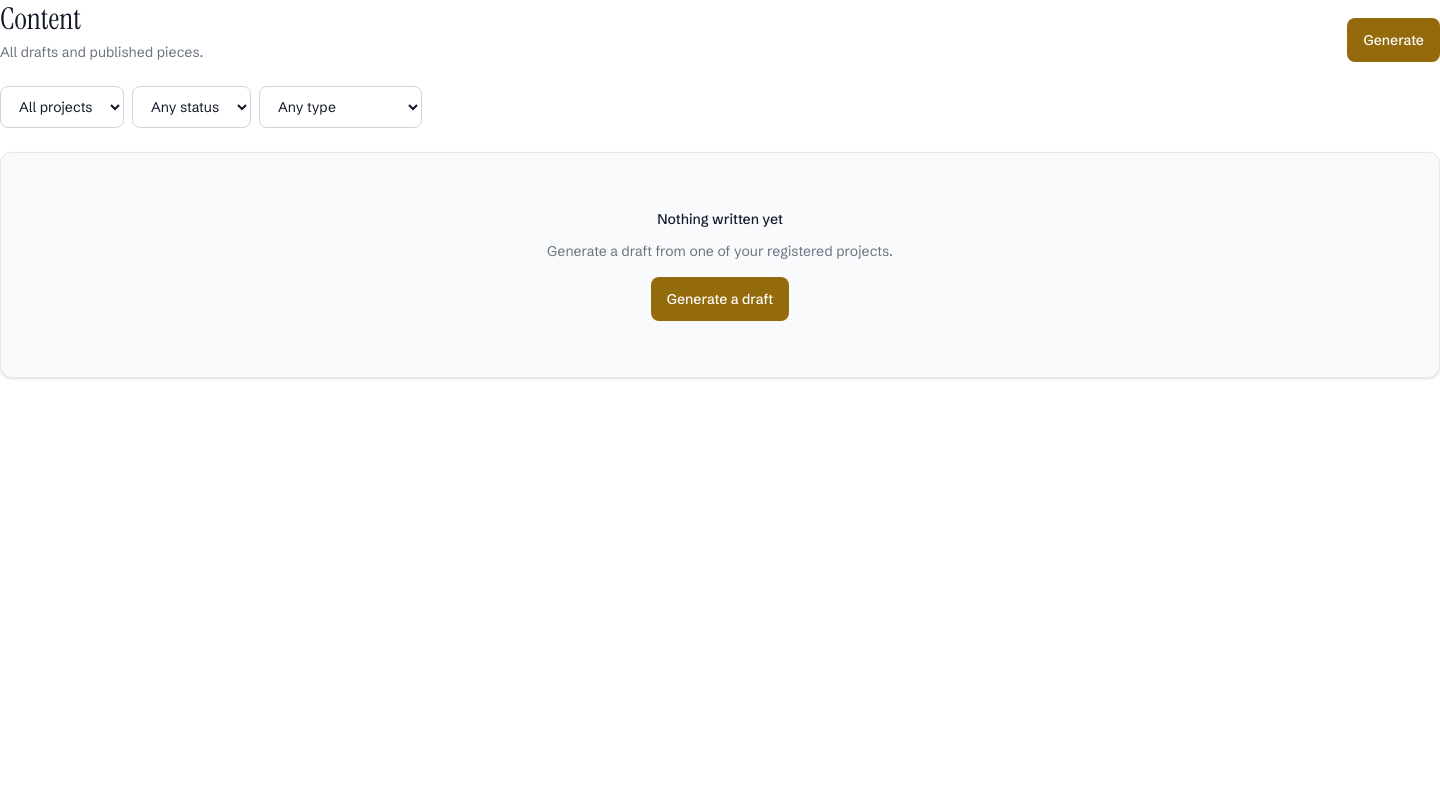
Test: generating a draft › opens a dialog scoped to the current project filter
Expected: the text "Nothing written yet" is shown, [657,208,783,228]
Click the button "Generate a draft" at (720, 298), box [651,276,789,320]
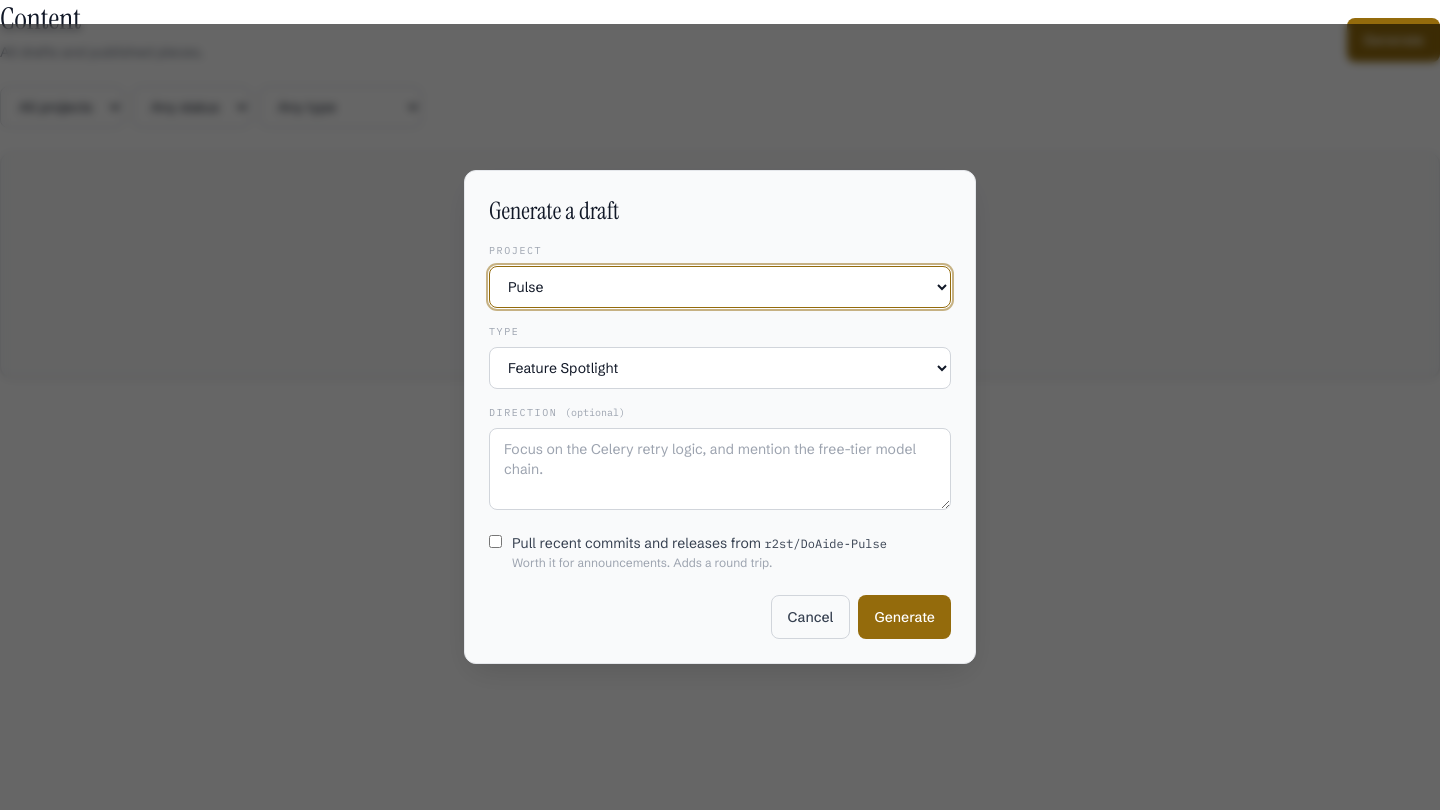
Now the dialog named "Generate content" is shown
